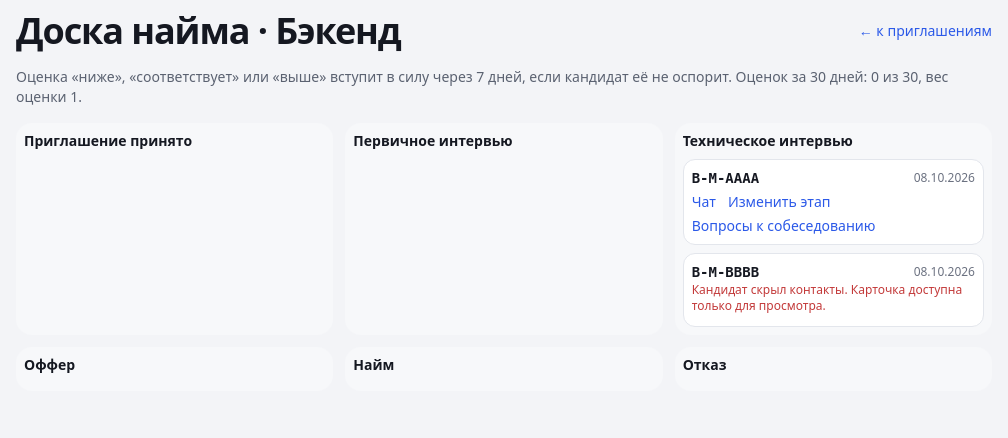
Test case: interview helper on the hiring board › explains the limit error in plain words
Click the button "Вопросы к собеседованию". click: (784, 226)
box: [692,216,876,236]
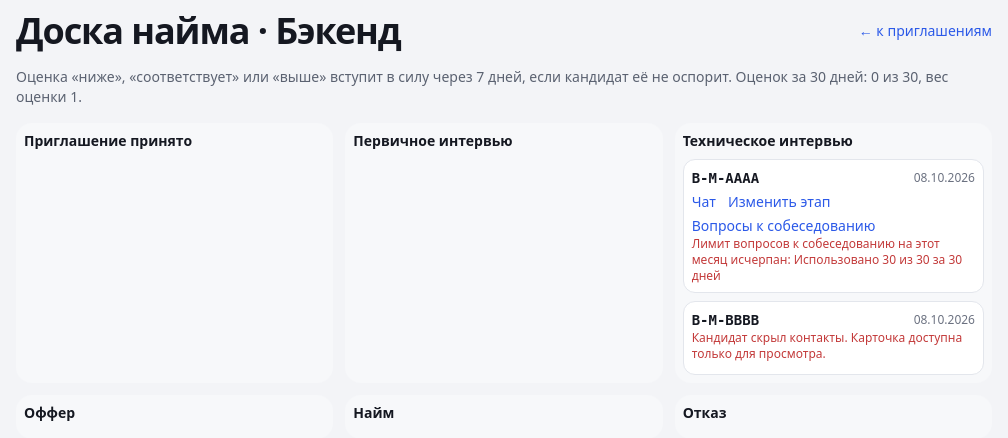
expect the message shows "Лимит вопросов к собеседованию на этот месяц исчерпан: Использовано 30 из 30 за 30 дней": met, box [692,235,962,284]
